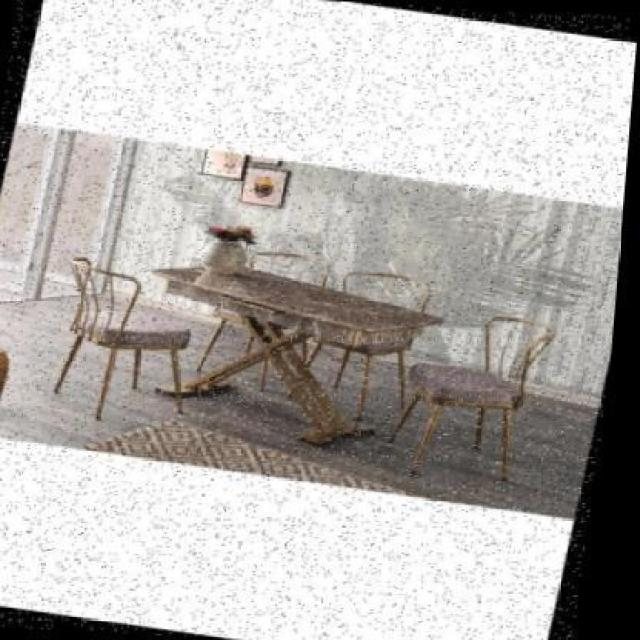tables: (149, 265, 443, 446)
